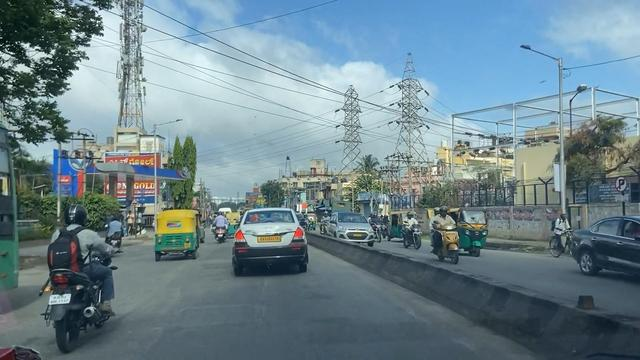LMV: (50, 207, 118, 333), (233, 206, 307, 271), (154, 208, 200, 264)
UnsurfacedRoad: (157, 294, 259, 359)
